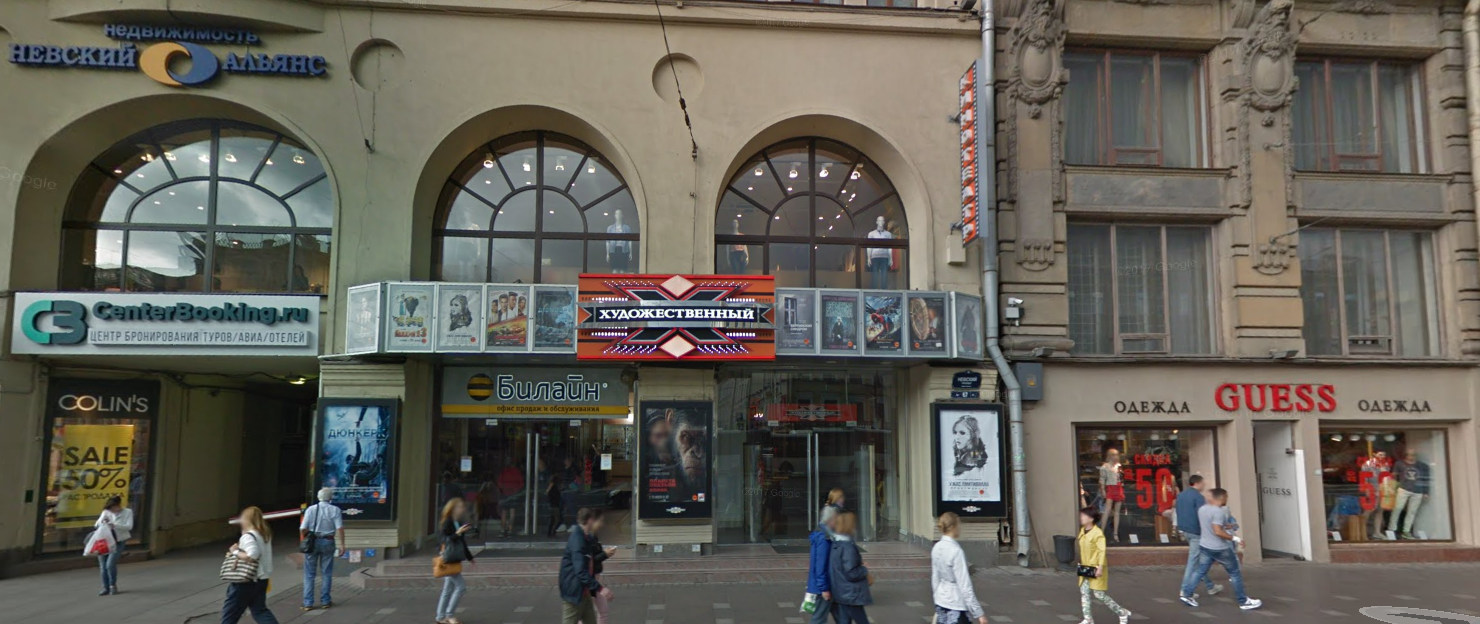cantilever: (942, 59, 993, 252)
signboard: (342, 263, 987, 377), (2, 25, 335, 92), (11, 290, 325, 350), (438, 364, 630, 418), (928, 399, 1007, 515), (320, 395, 393, 520), (639, 405, 708, 519), (1211, 378, 1338, 416), (49, 380, 159, 418), (1110, 393, 1194, 420), (1357, 397, 1436, 414)
win_ad: (58, 422, 128, 531)
window: (48, 114, 323, 293), (703, 116, 911, 285), (431, 120, 636, 272), (1298, 219, 1449, 357), (1054, 39, 1213, 169), (1069, 215, 1215, 350), (1287, 46, 1435, 179), (1070, 419, 1221, 545), (1322, 417, 1453, 541)
